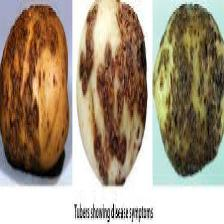Defected potato: (78, 5, 148, 200), (153, 8, 224, 191), (0, 7, 69, 190)
